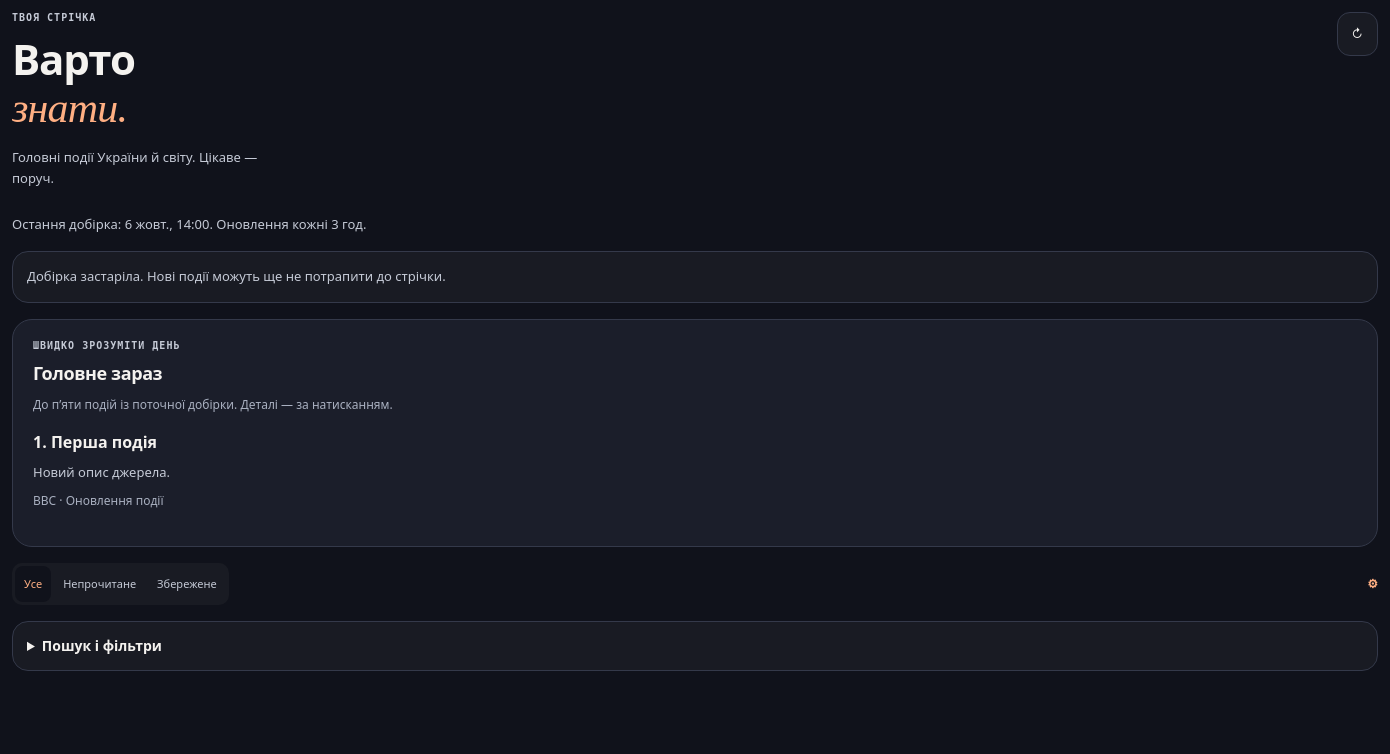
Test case: opens the concise overview and shows source-proven text changes
Expected: the heading "Головне зараз" is shown, [33,361,162,385]
What coordinates should you click on to do the following:
click the button with aria-label "Коротко: Перша подія"
I would click on:
 (104, 442)
Its box is [33,430,1357,526].
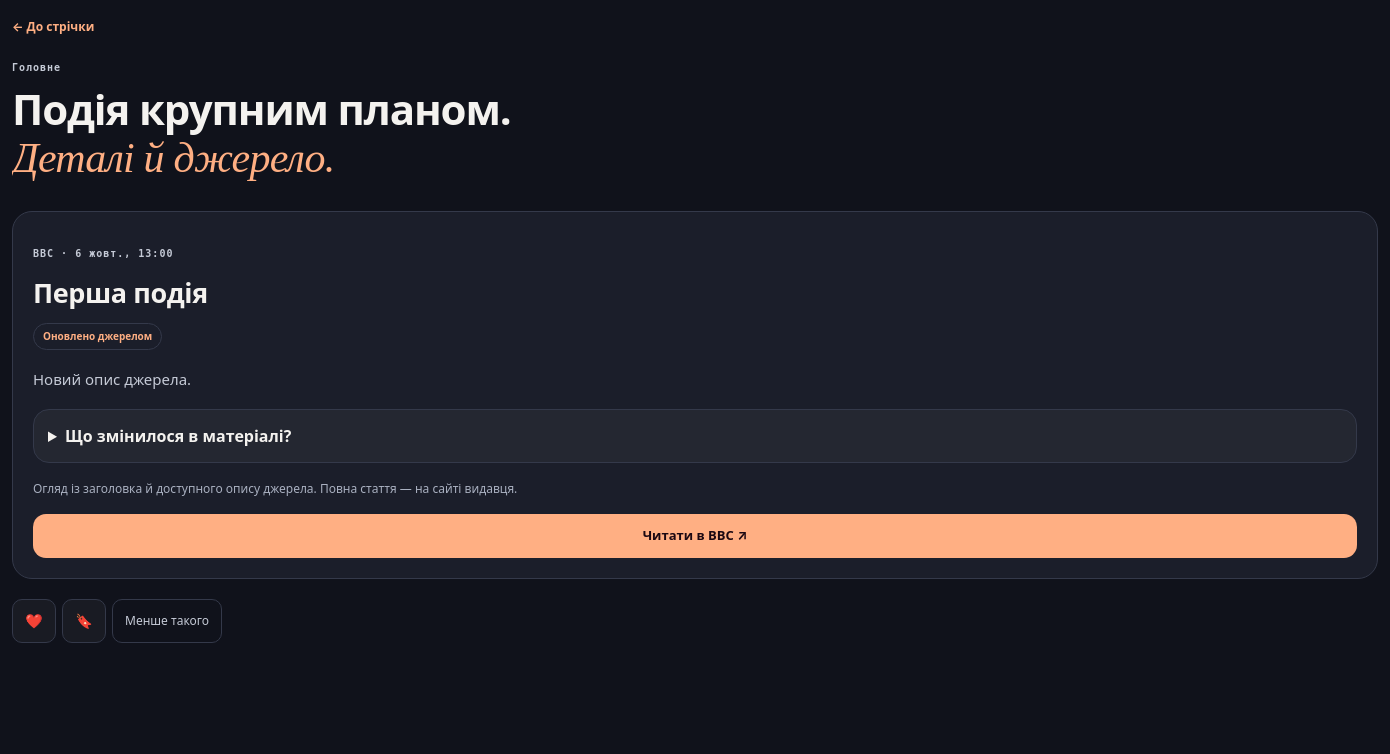
What coordinates should you click on to do the following:
click the heading "Що змінилося в матеріалі?"
I would click on:
 (178, 436)
Its box is [65,425,291,447].
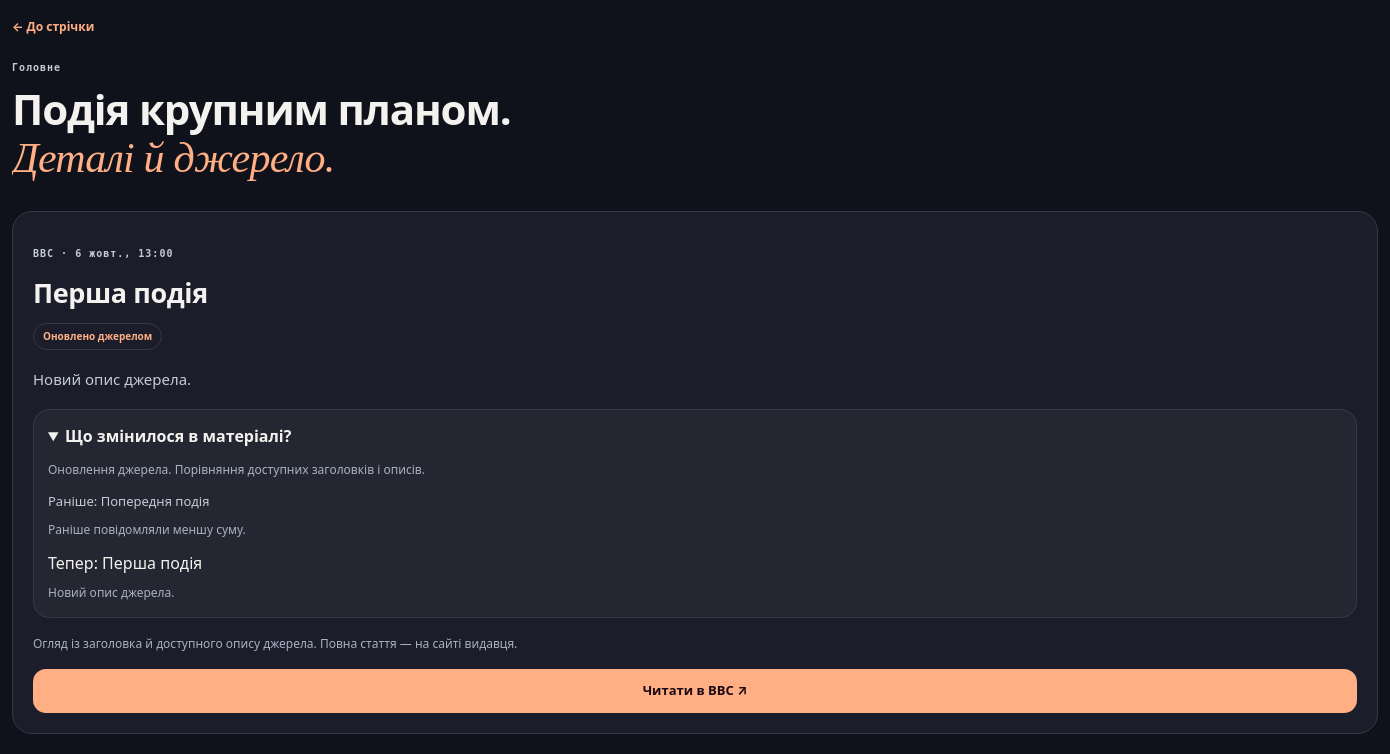
Expected: the text "Раніше: Попередня подія" is shown, [48,492,210,510]
Expected: the text "Тепер: Перша подія" is shown, [48,552,202,574]
